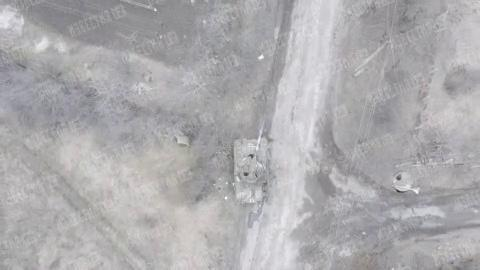tank: (232, 121, 270, 204)
